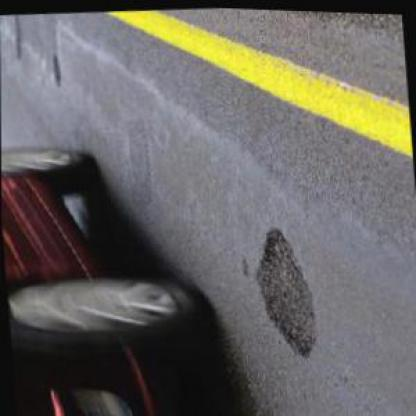pothole: (248, 219, 318, 358), (47, 50, 63, 86), (237, 252, 250, 274)
